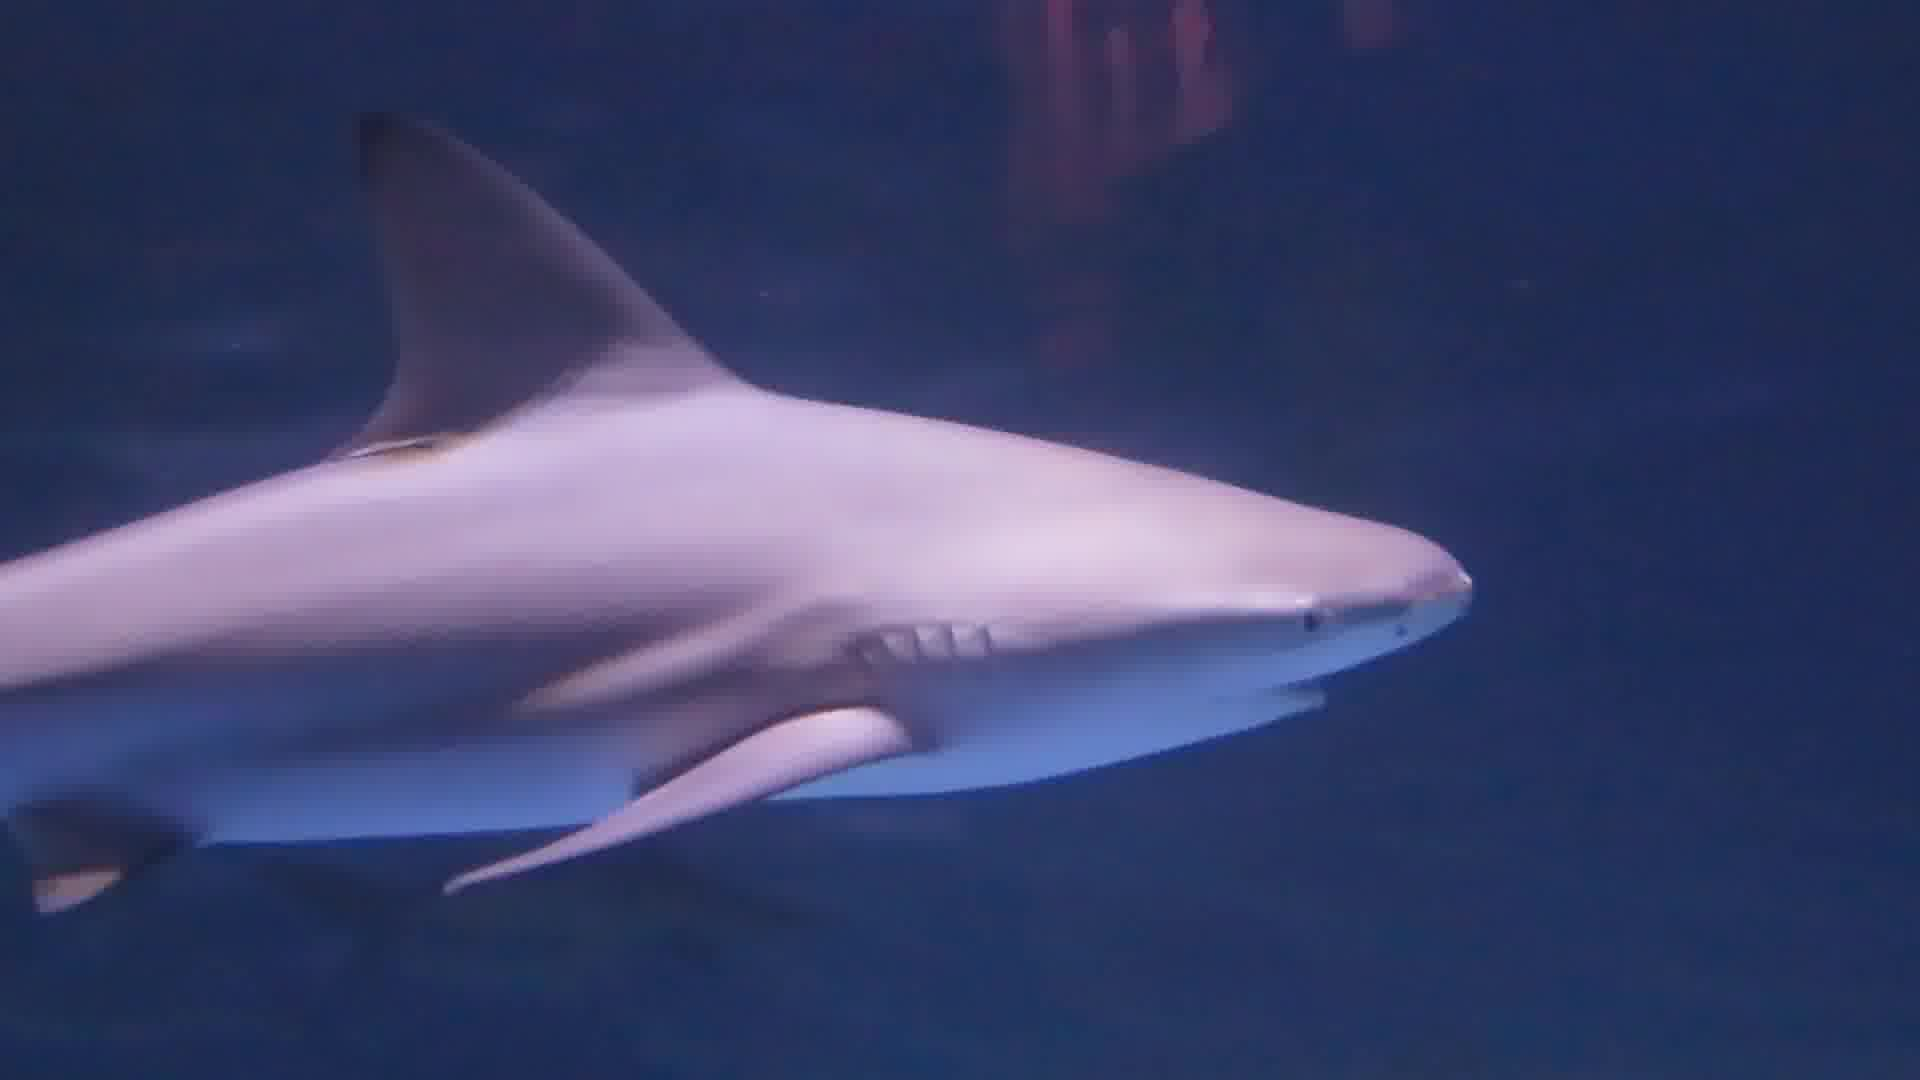Carcharhinus leucas: (1, 36, 1542, 1010)
